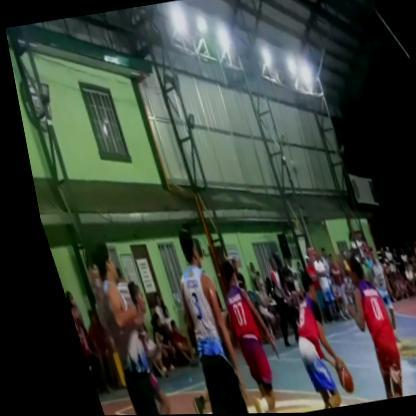basketball: (312, 352, 344, 398)
